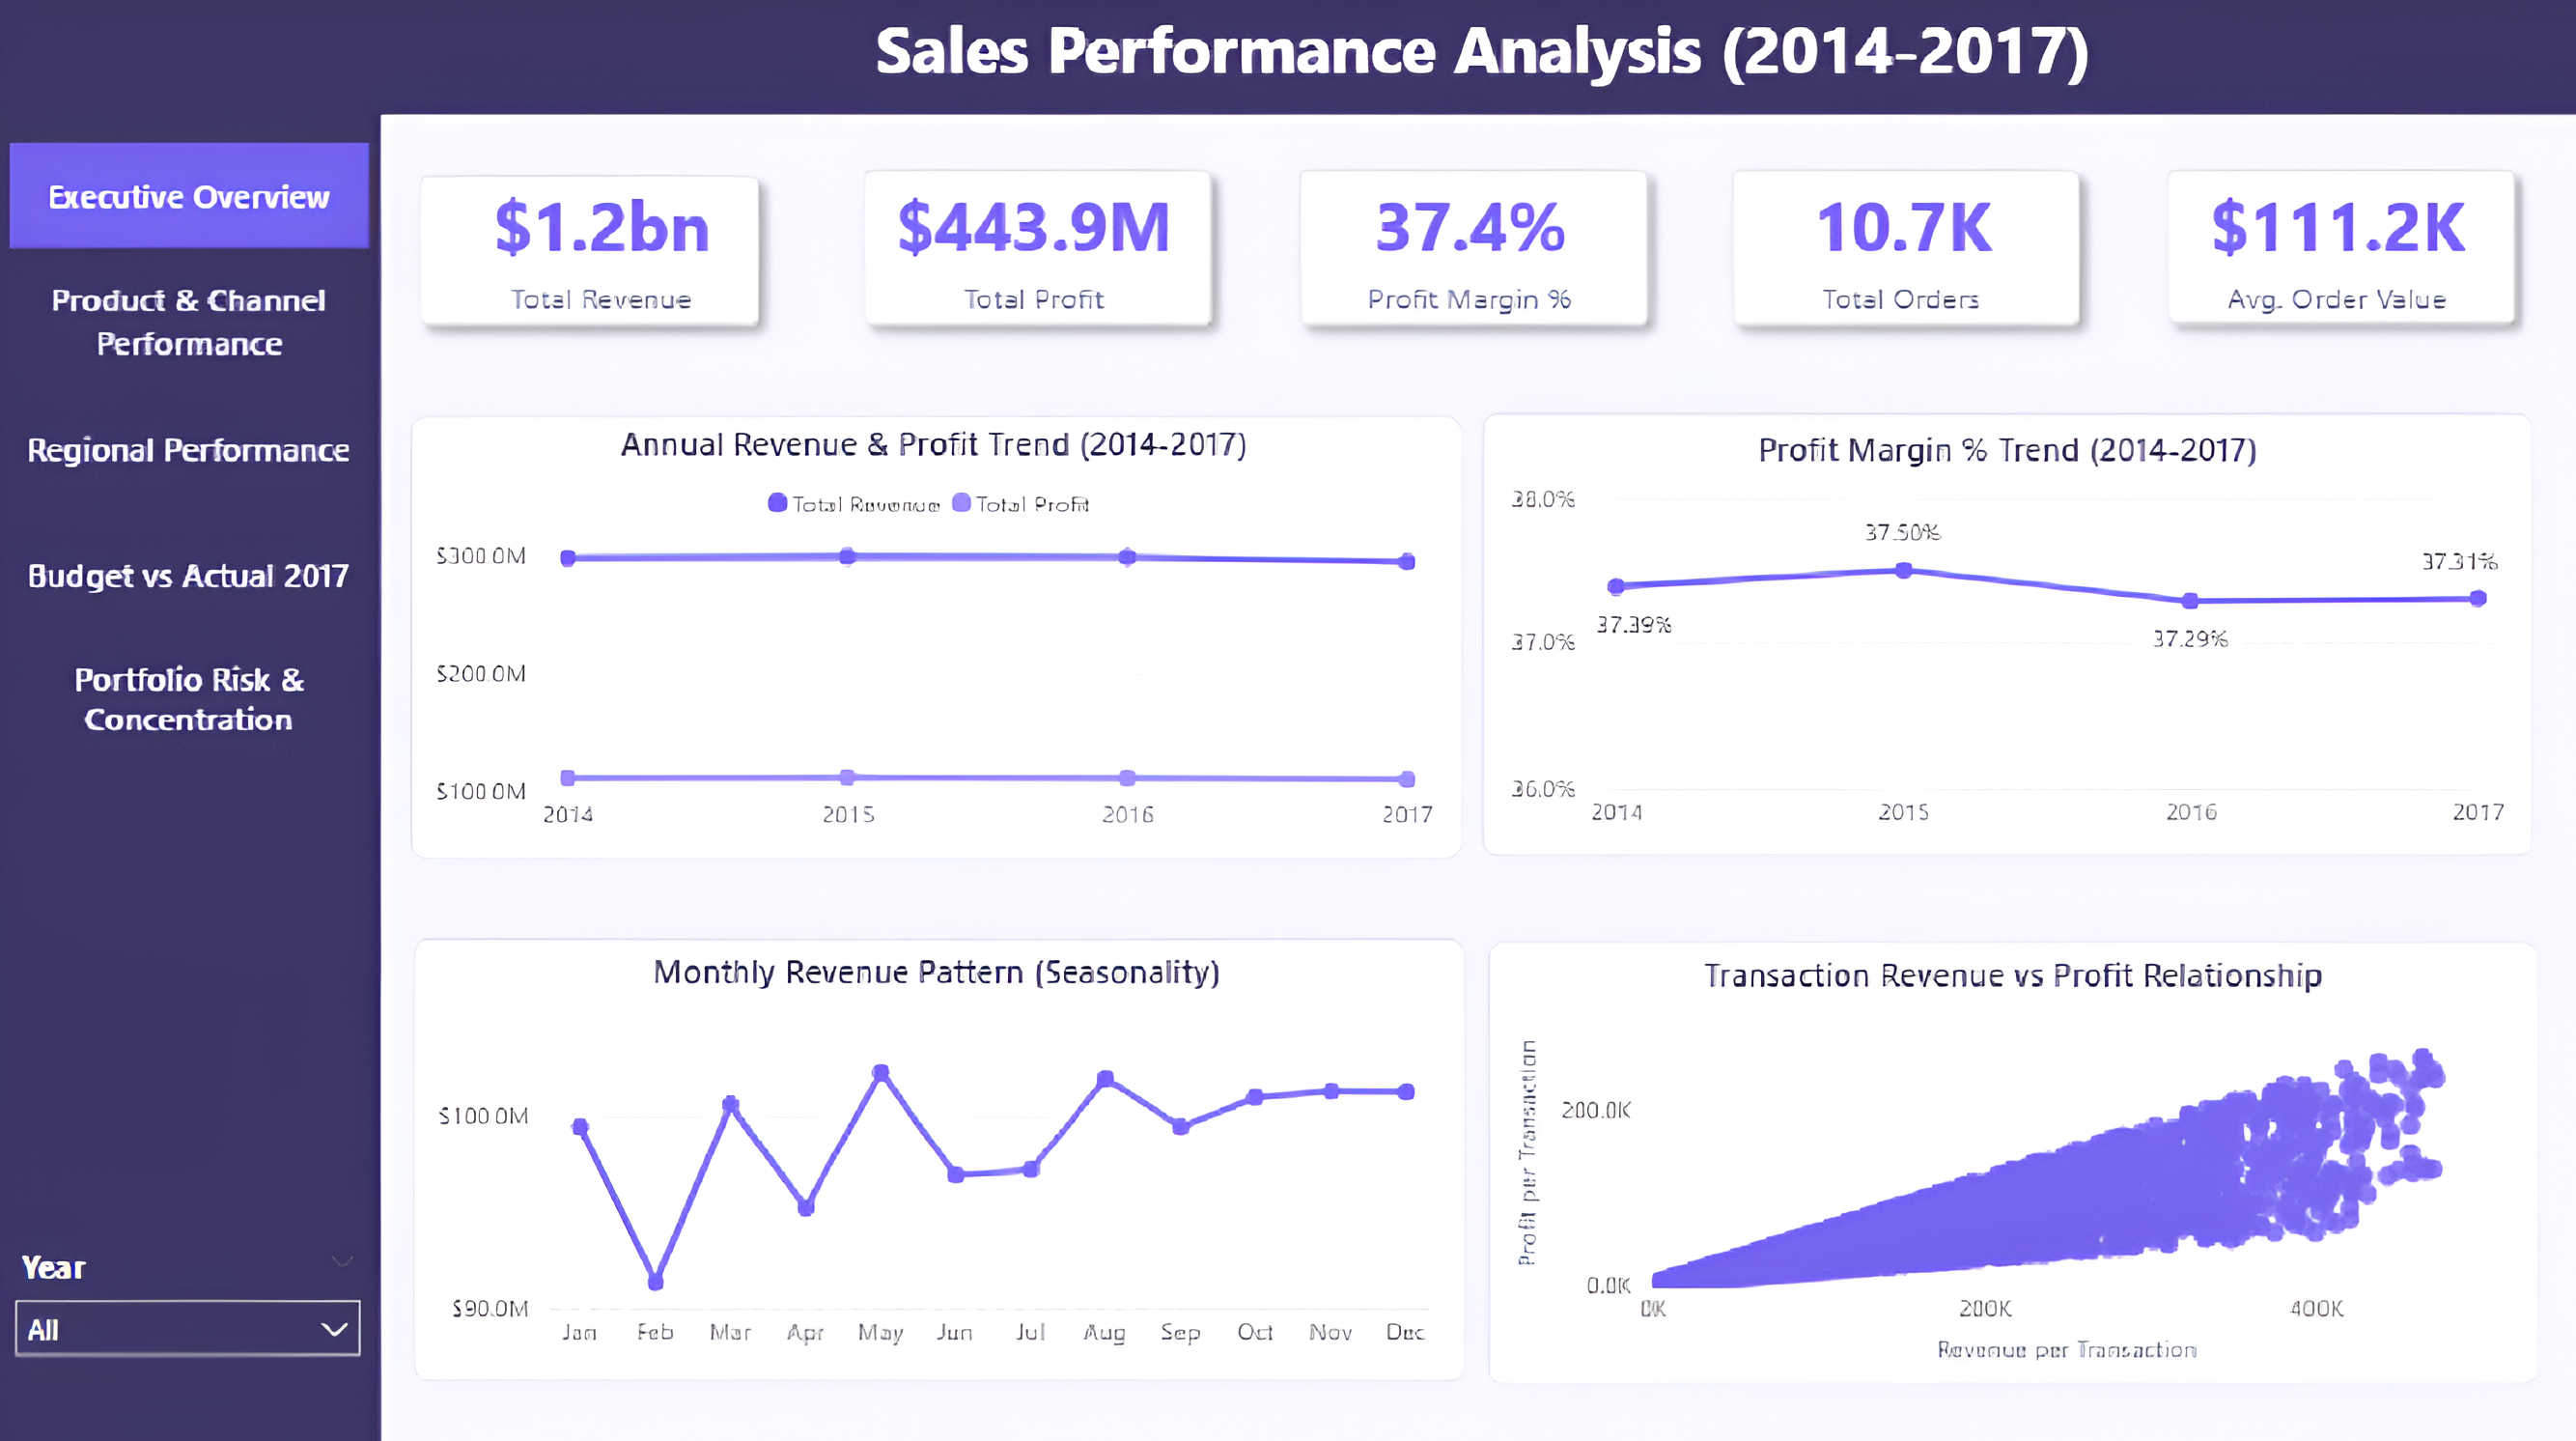

The dashboard page shown, as its layout file describes it:
{"tool":"powerbi","page":{"name":"Executive Overview","canvas":[1280,720],"ordinal":0},"visuals":[{"type":"shape","box":[737.8,467.3,521.4,220],"z":0},{"type":"shape","box":[207.1,466.7,521.4,220],"z":1000},{"type":"shape","box":[1071.2,77.9,190.2,94.3],"z":1002,"group":"g5"},{"type":"shape","box":[421.9,78.6,190.1,95],"z":1002,"group":"g2"},{"type":"shape","box":[636.7,78.6,190.8,95],"z":1002,"group":"g3"},{"type":"shape","box":[850.8,78.6,190.1,95],"z":1002,"group":"g4"},{"type":"shape","box":[198.1,80.9,186,92.2],"z":1002,"group":"g1"},{"type":"card","fields":{"Values":["_measures.Total Revenue"]},"box":[198.8,78.1,195,95],"z":1502,"group":"g1"},{"type":"card","fields":{"Values":["_measures.Revenue per Order"]},"box":[1066.3,78.5,195.1,95],"z":1502,"group":"g5"},{"type":"card","fields":{"Values":["_measures.Total Profit"]},"box":[417,79.2,195,95],"z":1502,"group":"g2"},{"type":"card","fields":{"Values":["_measures.Weighted Margin %"]},"box":[631.8,79.2,195.7,95],"z":1502,"group":"g3"},{"type":"card","fields":{"Values":["_measures.Total Orders"]},"box":[845.9,79.2,195,95],"z":1502,"group":"g4"},{"type":"shape","box":[735.7,207.6,521.4,220],"z":2000},{"type":"shape","box":[0,0,1280,60],"z":3000},{"type":"textbox","box":[424.3,0,625.7,58.6],"z":4000},{"type":"group","id":"g1","title":"Group 1","box":[198.1,78.1,195.7,95.7],"z":5000},{"type":"group","id":"g2","title":"Group 1","box":[417,78.6,195,95.6],"z":6000},{"type":"group","id":"g3","title":"Group 1","box":[631.8,78.6,195,95.7],"z":7000},{"type":"group","id":"g4","title":"Group 1","box":[845.9,78.6,195.7,95.7],"z":8000},{"type":"group","id":"g5","title":"Group 1","box":[1066.3,77.9,195.7,95.7],"z":9000},{"type":"shape","box":[205.7,208.1,521.4,220],"z":10000},{"type":"lineChart","title":"Annual Revenue & Profit Trend (2014-2017)","fields":{"Category":["calendar.year"],"Y":["_measures.Total Revenue","_measures.Total Profit"]},"box":[212.9,211,504.3,212.9],"z":11000},{"type":"lineChart","title":"Profit Margin % Trend (2014-2017)","fields":{"Category":["calendar.year"],"Y":["_measures.Weighted Margin %"]},"box":[745.7,214.7,501.4,208.6],"z":12000},{"type":"lineChart","title":"Monthly Revenue Pattern (Seasonality)","fields":{"Category":["calendar.month name"],"Y":["_measures.Total Revenue"]},"box":[214.3,472.4,504.3,207.1],"z":13000},{"type":"scatterChart","title":"Transaction Revenue vs Profit Relationship","fields":{"X":["Sum(fact_sales.revenue)"],"Y":["Sum(fact_sales.profit)"],"Category":["fact_sales.order_number"]},"box":[747.8,473,501.4,207.1],"z":14000},{"type":"shape","box":[0,59.4,191,659.4],"z":15000},{"type":"slicer","fields":{"Values":["calendar.year"]},"box":[0,612.9,191.4,71.4],"z":16000},{"type":"pageNavigator","box":[7.1,74.1,178.8,304.7],"z":17000}]}

Visuals, with their boxes in screenshot pixels (x1, y1, x2, y2), scaled from the page's 1280x720 canvas onto the 2576x1441 screenshot:
shape: detection(1485, 935, 2534, 1375)
shape: detection(417, 934, 1466, 1374)
shape: detection(2156, 155, 2538, 345)
shape: detection(849, 157, 1232, 348)
shape: detection(1281, 157, 1666, 348)
shape: detection(1712, 157, 2095, 348)
shape: detection(399, 162, 773, 347)
card - _measures.Total Revenue: detection(400, 156, 793, 347)
card - _measures.Revenue per Order: detection(2146, 157, 2538, 348)
card - _measures.Total Profit: detection(839, 158, 1232, 349)
card - _measures.Weighted Margin %: detection(1272, 158, 1666, 349)
card - _measures.Total Orders: detection(1702, 158, 2095, 349)
shape: detection(1480, 415, 2530, 856)
shape: detection(0, 0, 2575, 120)
textbox: detection(854, 0, 2114, 117)
"Group 1" group: detection(399, 156, 793, 348)
"Group 1" group: detection(839, 157, 1232, 349)
"Group 1" group: detection(1272, 157, 1664, 349)
"Group 1" group: detection(1702, 157, 2096, 349)
"Group 1" group: detection(2146, 155, 2539, 348)
shape: detection(414, 416, 1464, 857)
"Annual Revenue & Profit Trend (2014-2017)" lineChart: detection(429, 422, 1443, 848)
"Profit Margin % Trend (2014-2017)" lineChart: detection(1500, 430, 2509, 847)
"Monthly Revenue Pattern (Seasonality)" lineChart: detection(432, 946, 1446, 1360)
"Transaction Revenue vs Profit Relationship" scatterChart: detection(1505, 947, 2514, 1361)
shape: detection(0, 119, 384, 1439)
slicer - calendar.year: detection(0, 1227, 385, 1370)
pageNavigator: detection(14, 149, 374, 758)
